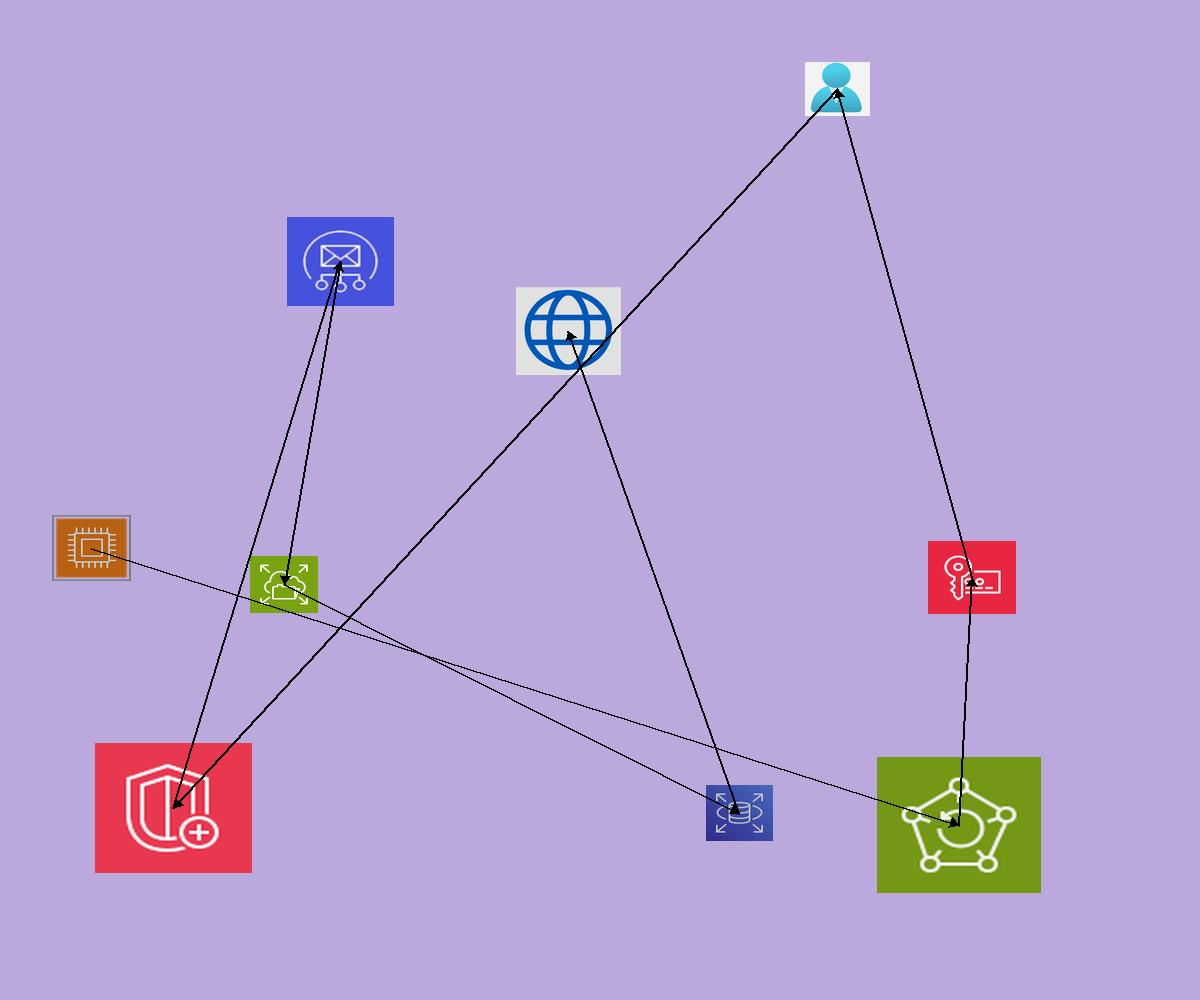AWS-Backup: (877, 757, 1041, 893)
AWS-Category_Compute: (52, 515, 131, 581)
AWS-EFS: (250, 556, 318, 613)
AWS-Key-Management-Service: (928, 541, 1016, 614)
AWS-RDS: (706, 785, 773, 841)
AWS-Shield: (95, 743, 252, 873)
AWS-Simple-Email-Service: (287, 217, 394, 306)
Azure_http: (516, 287, 621, 375)
Azure_users: (805, 62, 870, 116)
